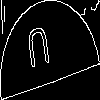U: (25, 25, 53, 78)
